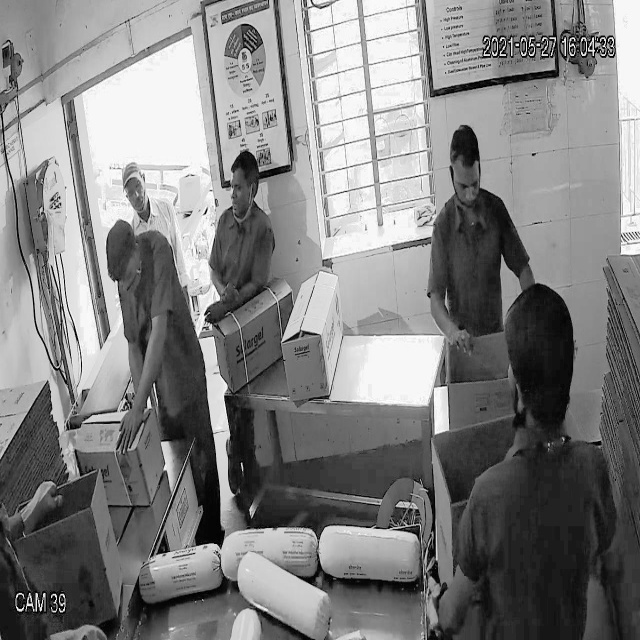Sin_gafas: (448, 167, 483, 201)
